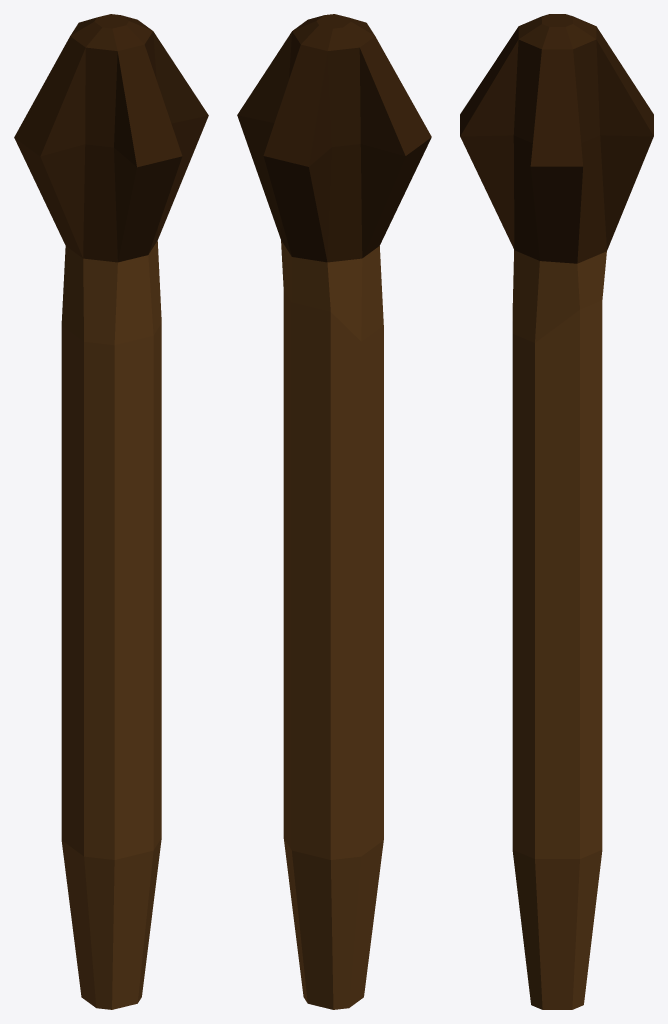
Rendered from BlackBronzeMace.glb.
The picture shows the model from 3 angles, left to right: view 1: azimuth 30°, elevation 25°; view 2: azimuth 150°, elevation 25°; view 3: azimuth 270°, elevation 25°; orthographic projection.
Visible parts, largest first — view 1: Mace; view 2: Mace; view 3: Mace.
Boxes of the visible parts, box(x1,y1,x2,y2) form: Mace: box(14, 14, 208, 1009); Mace: box(237, 14, 431, 1009); Mace: box(460, 14, 653, 1009).
Size of the model in its own units: 0.1021 by 0.5647 by 0.1013.
